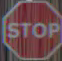Stop: (4, 3, 59, 49)
